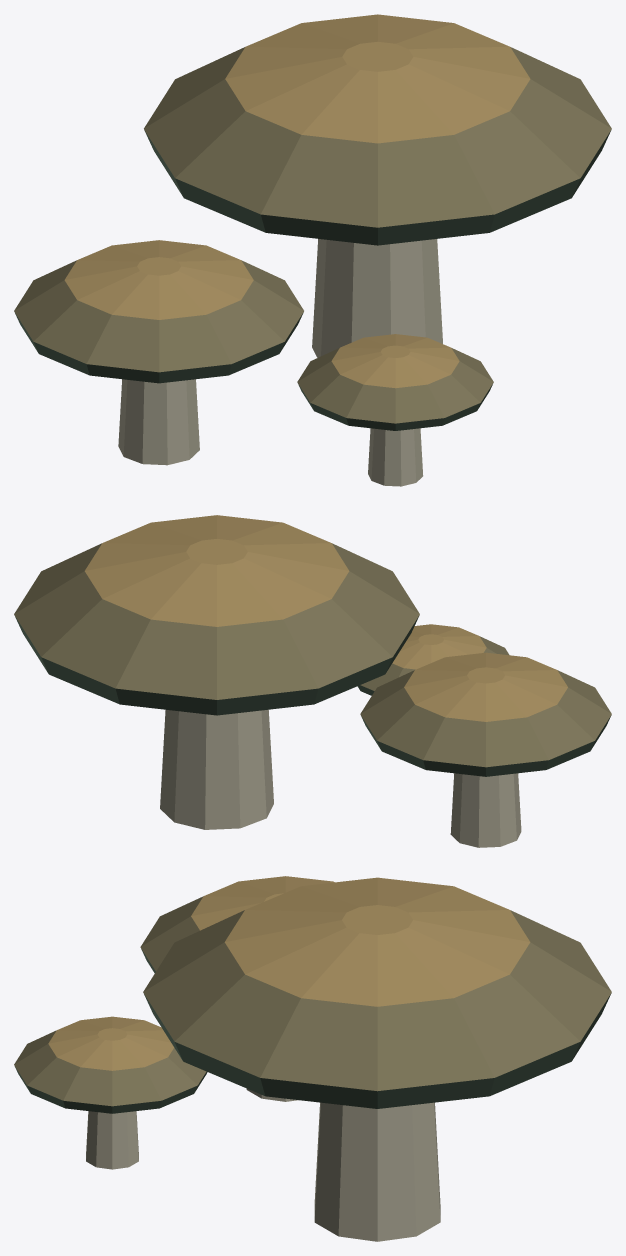
File: small-mushrooms.glb
3 renders of one model, top to bottom at view 1: azimuth 30°, elevation 25°; view 2: azimuth 150°, elevation 25°; view 3: azimuth 270°, elevation 25°, orthographic. The views are drawn at different scales.
Visible parts, largest first — view 1: small-mushrooms__body; view 2: small-mushrooms__body; view 3: small-mushrooms__body.
Boxes of the visible parts, <box> form: small-mushrooms__body: <box>14,14,611,486</box>; small-mushrooms__body: <box>14,515,611,847</box>; small-mushrooms__body: <box>14,876,611,1241</box>.
Bounding box in the file's own units: 0.6726 × 0.318 × 0.5866.
